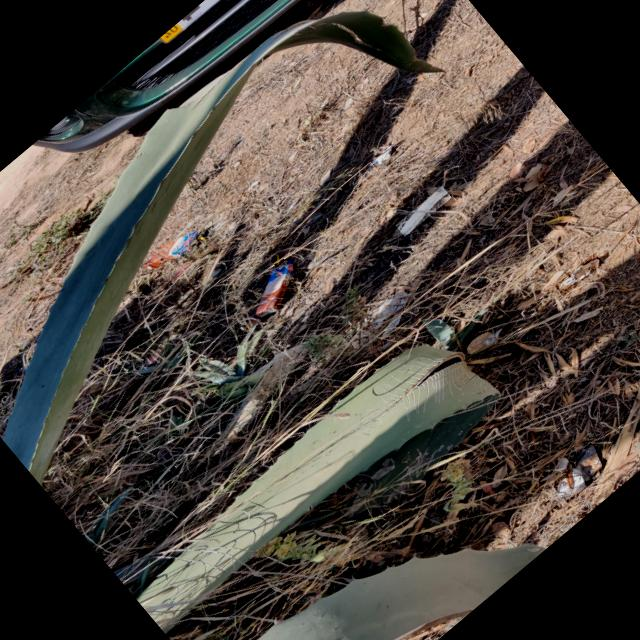Food Carton: (144, 229, 208, 270), (254, 260, 296, 318)
Other plastic: (559, 259, 600, 291), (572, 444, 601, 480)
Straw: (276, 253, 280, 266)
Unlabeled litter: (400, 191, 447, 234), (556, 467, 586, 499), (172, 247, 199, 282), (372, 144, 391, 165)
